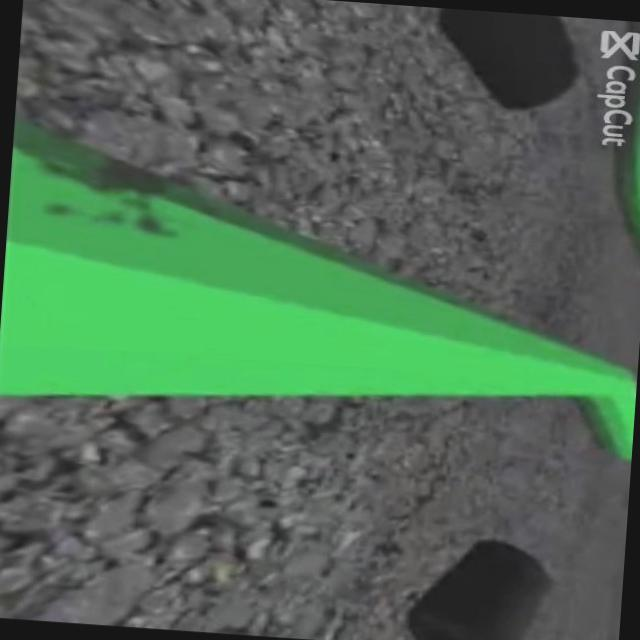gas: (0, 113, 640, 457)
